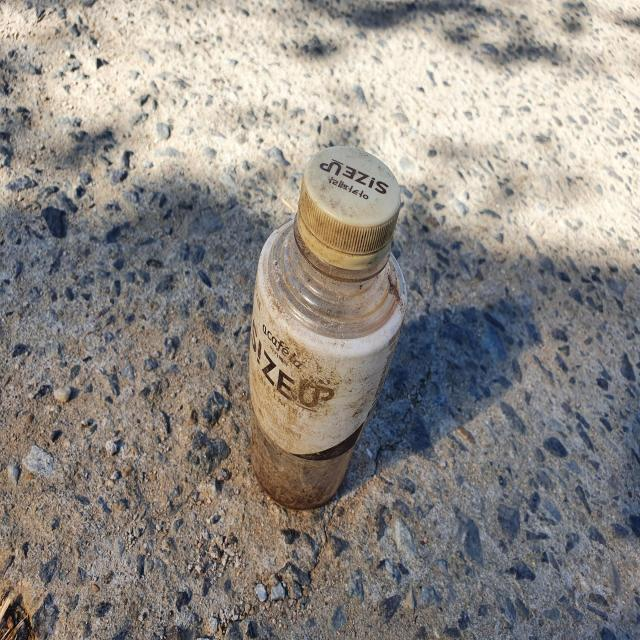plastic: (249, 145, 407, 510)
